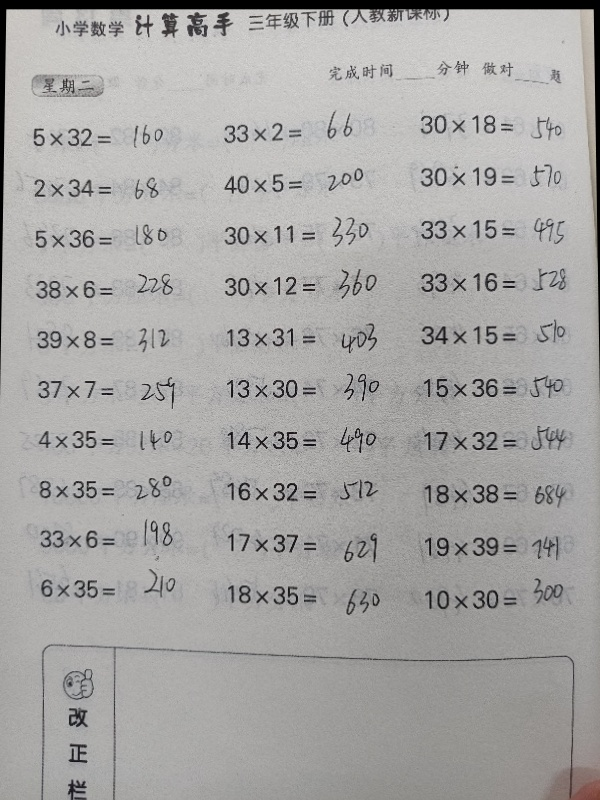equation: (415, 368, 596, 406), (415, 475, 597, 512), (415, 528, 598, 564), (406, 423, 587, 459), (411, 157, 590, 193), (402, 582, 585, 617), (219, 577, 402, 612), (218, 525, 400, 560), (219, 475, 401, 510), (219, 320, 399, 355), (413, 318, 593, 353), (219, 423, 401, 457), (30, 422, 211, 456), (30, 373, 211, 407), (219, 372, 399, 406), (28, 273, 208, 307), (215, 269, 395, 303), (413, 265, 593, 299), (215, 218, 395, 252), (412, 212, 592, 246), (27, 222, 206, 256), (26, 171, 205, 205), (24, 120, 203, 154), (215, 166, 393, 200), (215, 115, 393, 149), (412, 107, 590, 141), (31, 571, 214, 604), (32, 522, 214, 555), (30, 473, 212, 506), (28, 323, 209, 356)
